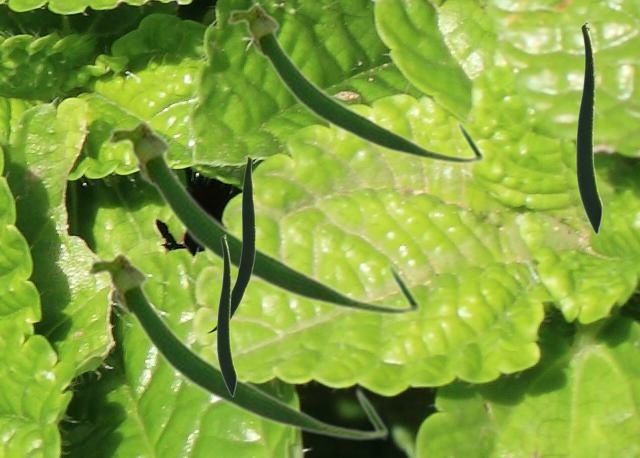french_bean: (104, 117, 422, 317), (84, 249, 389, 441), (225, 1, 485, 165), (206, 156, 254, 332), (575, 21, 602, 234), (216, 234, 236, 396)
